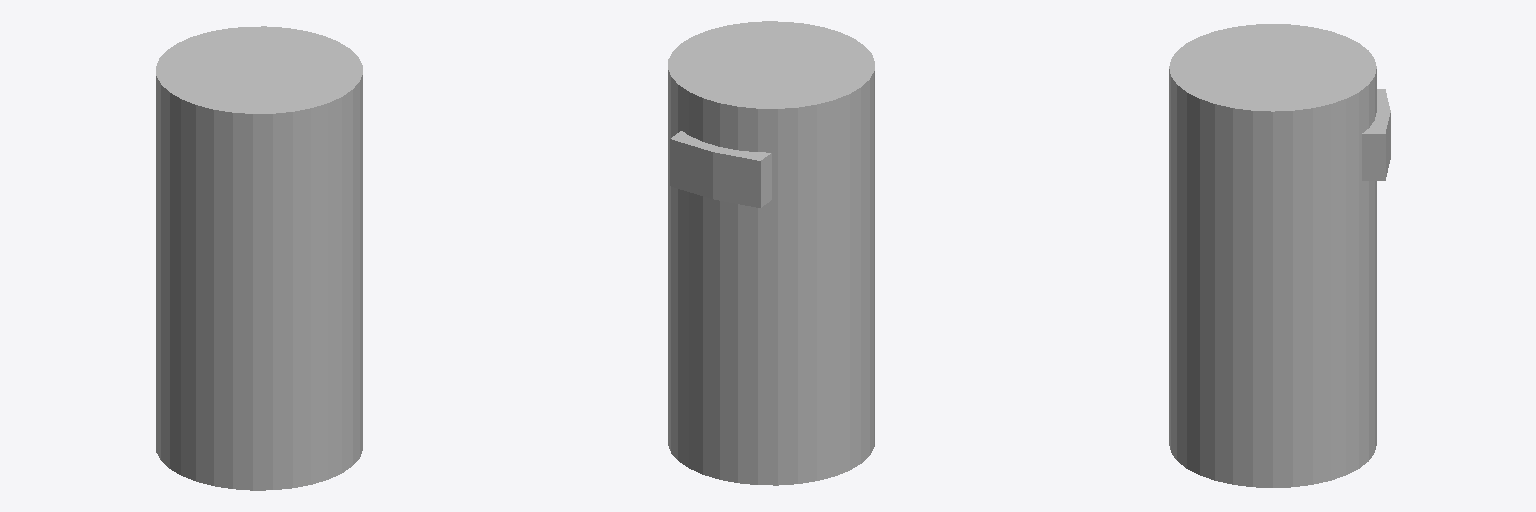
File: player_model_0.5_2.obj
3 views of the same model, side by side, from view 1: azimuth 30°, elevation 25°; view 2: azimuth 150°, elevation 25°; view 3: azimuth 270°, elevation 25° (orthographic).
Parts seen in each view (by area): view 1: Cylinder; view 2: Cylinder; view 3: Cylinder.
Boxes of the visible parts, x1=… form: Cylinder: x1=156, y1=26, x2=362, y2=490; Cylinder: x1=668, y1=21, x2=874, y2=485; Cylinder: x1=1169, y1=24, x2=1390, y2=487.
Size of the model in its own units: 1 by 2 by 1.07.